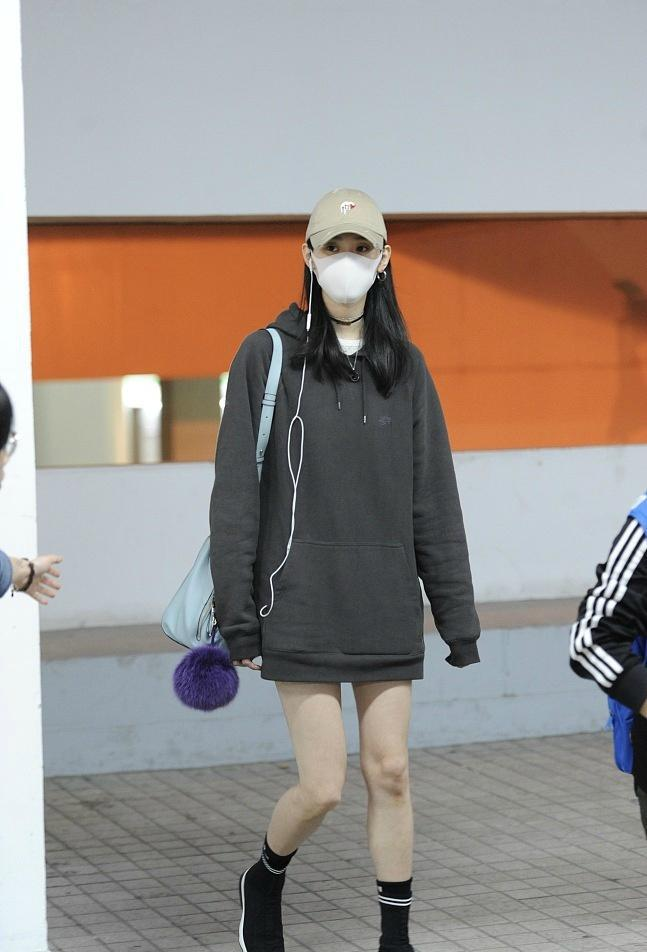OK: (312, 228, 386, 302)
